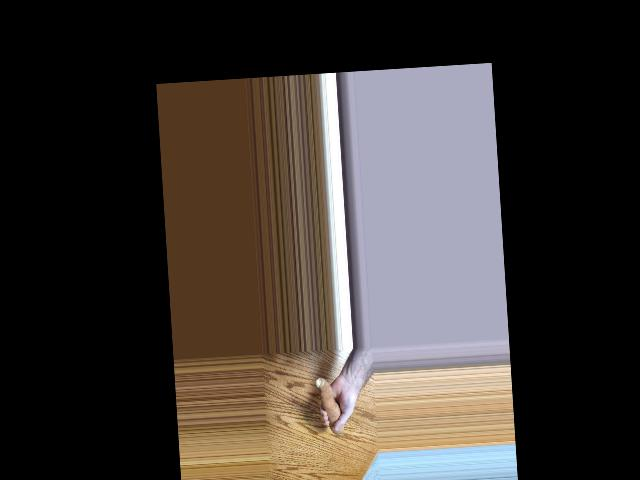sweet_potato: (315, 373, 343, 438)
